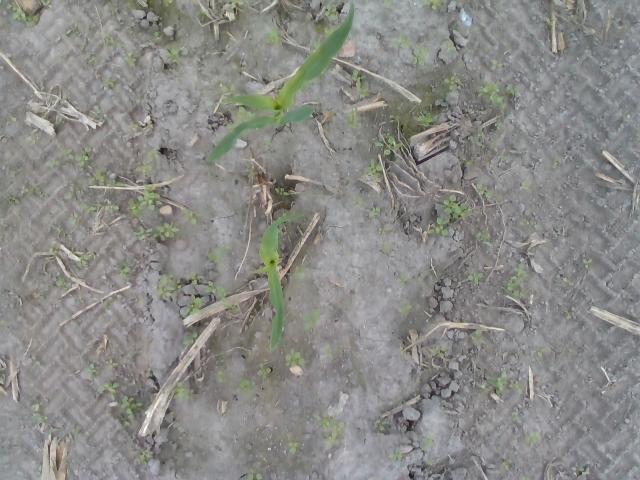Maize: (207, 0, 356, 163), (258, 214, 288, 353)
Weeds: (430, 194, 473, 236), (125, 187, 160, 217), (502, 262, 528, 298), (134, 222, 179, 241), (64, 144, 96, 170), (6, 2, 40, 26), (320, 414, 344, 447), (156, 271, 182, 301), (480, 367, 508, 391), (374, 132, 402, 156), (478, 82, 503, 105), (207, 243, 233, 264), (351, 68, 368, 100), (302, 304, 321, 332), (119, 396, 145, 416), (183, 295, 205, 317), (95, 383, 119, 402), (285, 344, 304, 366), (31, 400, 48, 424), (204, 280, 224, 300), (262, 23, 281, 44), (112, 260, 132, 279), (344, 108, 360, 130), (20, 186, 48, 198), (314, 24, 336, 39), (238, 376, 256, 394), (365, 158, 383, 176), (166, 47, 184, 65), (175, 381, 191, 401), (236, 106, 256, 122), (103, 32, 121, 49), (414, 48, 431, 66), (398, 303, 417, 319), (182, 208, 201, 224), (256, 361, 273, 378), (181, 330, 199, 346), (414, 112, 432, 128), (55, 274, 73, 290), (136, 448, 152, 464), (431, 344, 448, 359), (468, 127, 483, 144), (477, 231, 492, 248), (466, 271, 484, 285), (470, 330, 488, 344), (478, 186, 496, 200), (286, 265, 305, 278), (94, 168, 107, 186), (244, 162, 258, 178), (286, 440, 302, 454), (134, 163, 152, 175), (387, 448, 401, 463), (443, 75, 458, 89), (326, 0, 336, 21), (246, 469, 265, 480), (366, 206, 382, 219), (80, 202, 97, 214), (398, 32, 410, 49), (222, 303, 240, 314), (525, 432, 539, 446), (544, 14, 558, 28), (146, 147, 160, 161), (350, 193, 363, 208), (96, 203, 120, 211), (221, 84, 238, 95), (562, 276, 576, 289), (489, 58, 504, 70), (274, 186, 290, 197), (426, 0, 443, 10), (214, 368, 224, 384), (529, 348, 545, 358), (421, 435, 433, 448), (502, 455, 512, 470), (85, 366, 100, 376), (399, 272, 408, 288), (373, 420, 385, 432), (78, 254, 90, 266), (189, 272, 201, 284), (46, 158, 64, 166), (194, 9, 209, 18), (125, 52, 136, 64), (324, 344, 332, 360), (562, 308, 572, 320), (518, 180, 528, 192), (41, 0, 54, 9), (103, 78, 116, 87), (511, 383, 521, 394), (152, 30, 162, 41), (231, 0, 243, 9), (551, 158, 560, 170), (494, 154, 512, 160), (374, 226, 384, 236), (104, 359, 114, 369), (583, 258, 592, 269), (464, 159, 476, 167), (162, 0, 174, 8), (505, 84, 514, 94), (254, 266, 264, 274), (264, 136, 272, 146), (520, 218, 530, 226), (47, 247, 57, 255), (120, 417, 128, 427), (382, 0, 392, 8), (494, 122, 502, 131), (8, 196, 16, 205), (491, 130, 496, 144), (511, 414, 519, 422), (398, 344, 406, 352), (88, 56, 96, 64), (226, 123, 237, 128), (0, 0, 5, 9), (163, 176, 172, 180), (520, 476, 528, 480)
